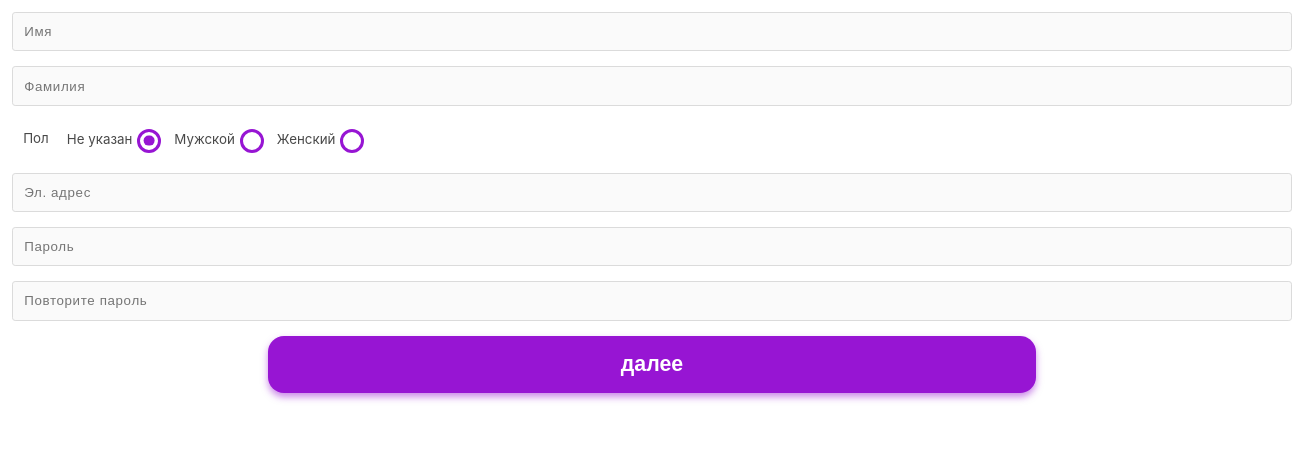
Test: RegistrationForm › reports when password too easy comes from backend
The image size is (1304, 454).
Type "Ivan" into the field with placeholder "Имя" at [652, 32], box [12,12,1292,51]
Type "Ivanov" into the field with placeholder "Фамилия" at [652, 86], box [12,66,1292,106]
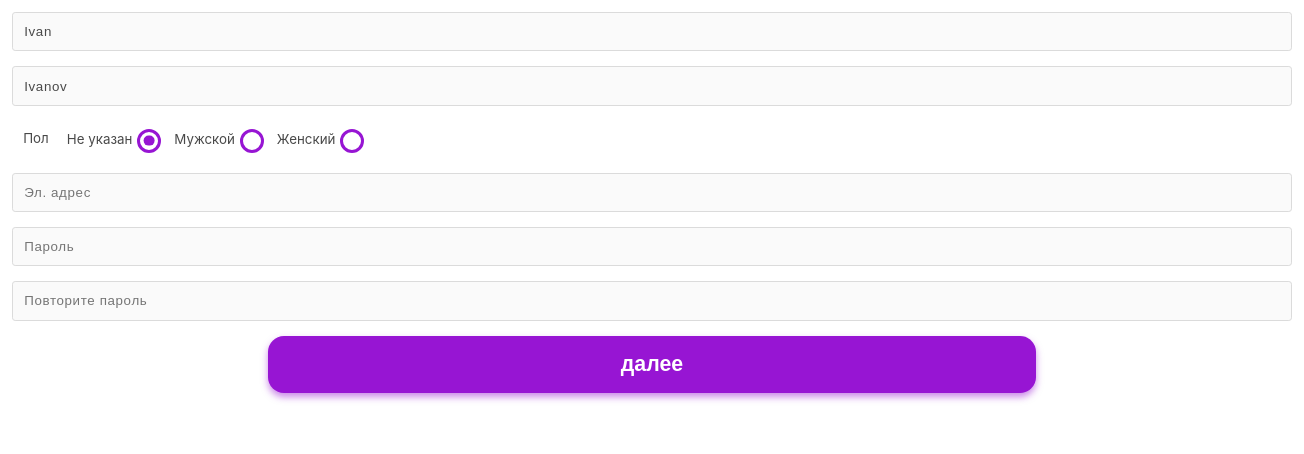
Type "asdf@asdf.asdf" into the field with placeholder "Эл. адрес" at [652, 192], box [12,172,1292,212]
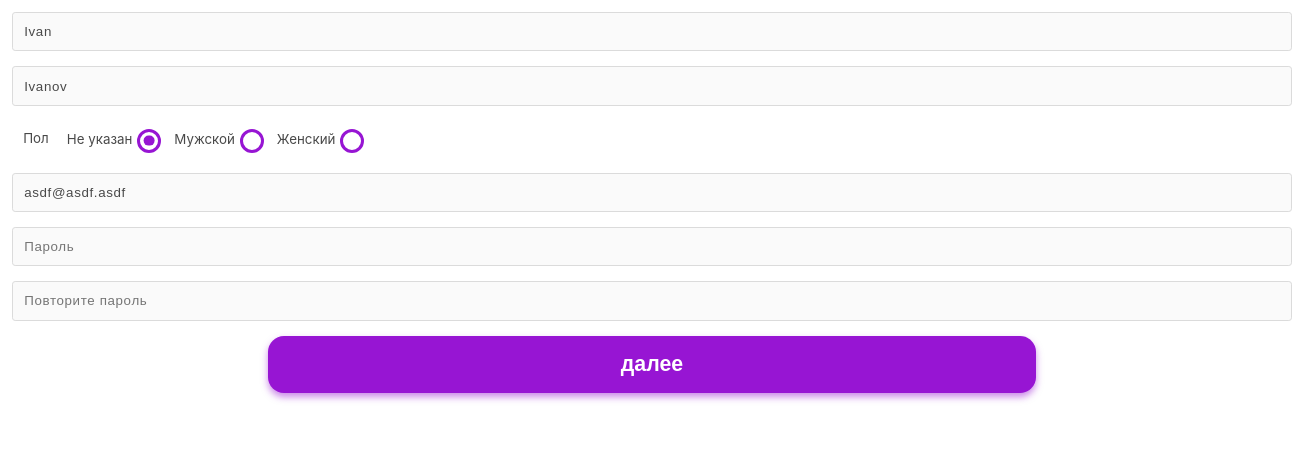
Type "Hunter2!" into the password field with placeholder "Пароль" at [652, 247], box [12,227,1292,266]
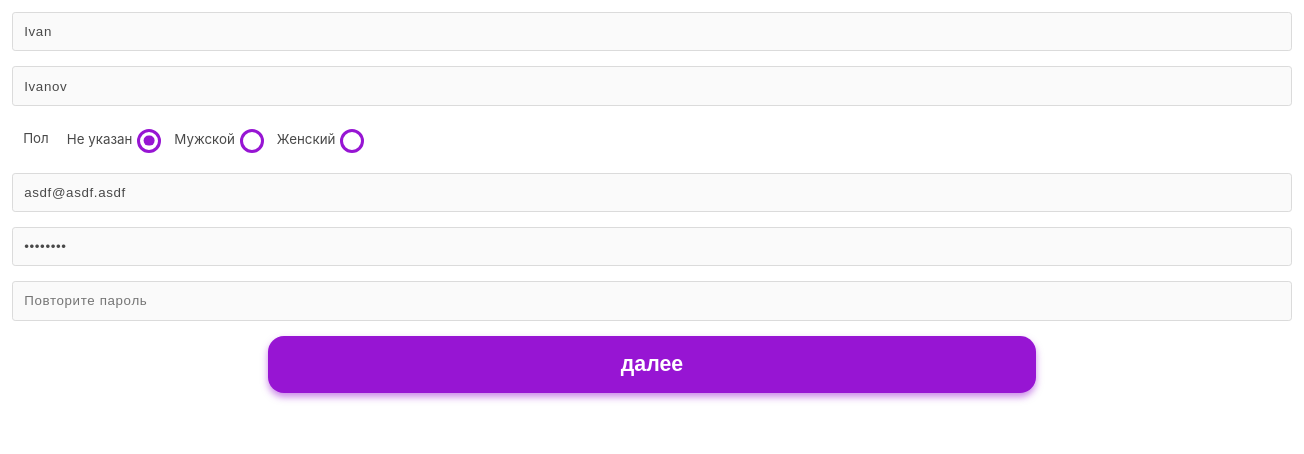
Type "Hunter2!" into the password field with placeholder "Повторите пароль" at [652, 301], box [12,281,1292,321]
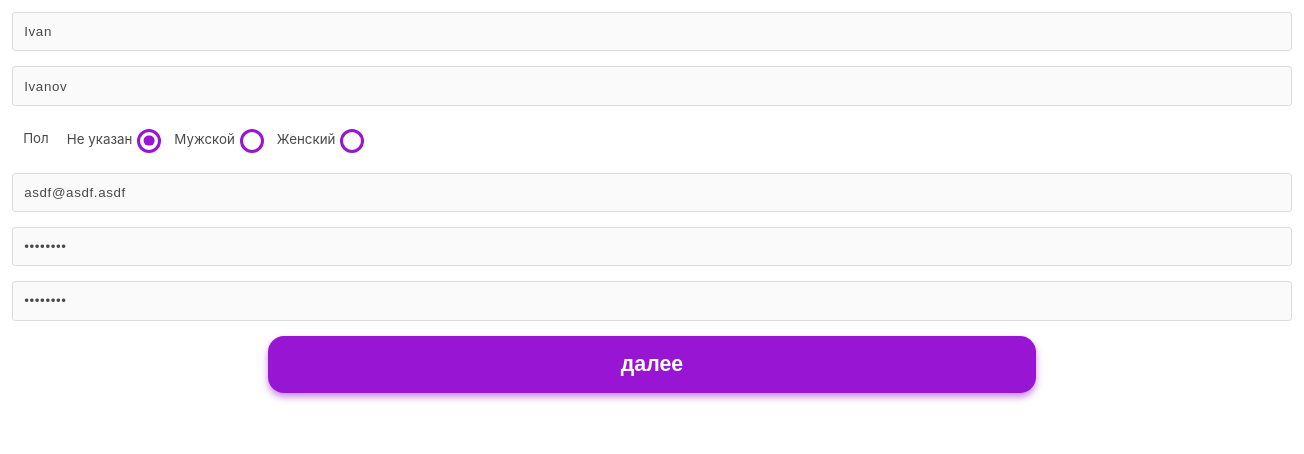
Click the radio button labelled "Мужской" at [252, 141], box [240,129,264,153]
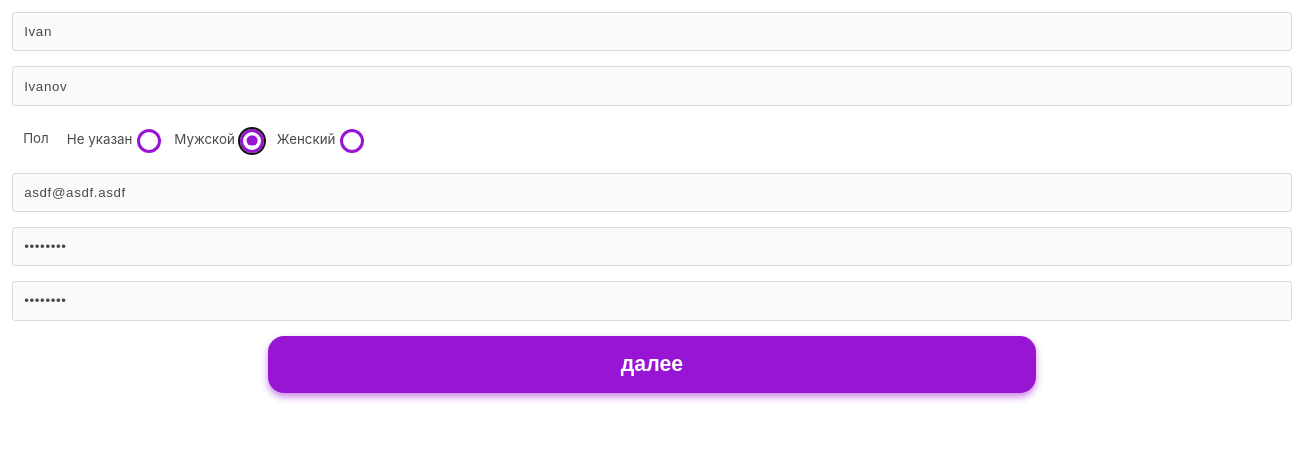
Click the button "далее" at [652, 364], box [268,336,1036,393]
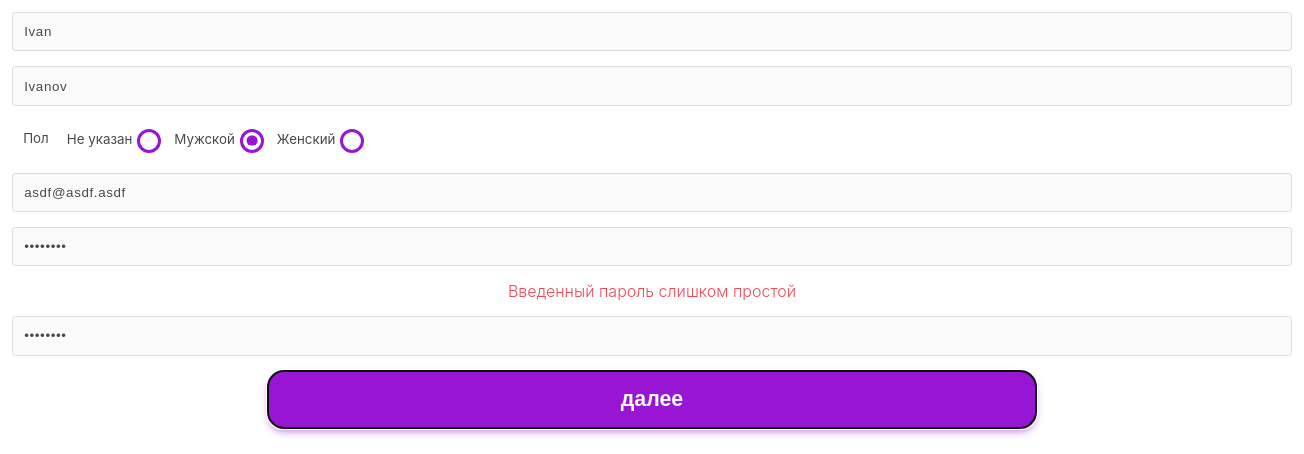
Result: the text "Введенный пароль слишком простой" is shown at [508,281,796,301]
